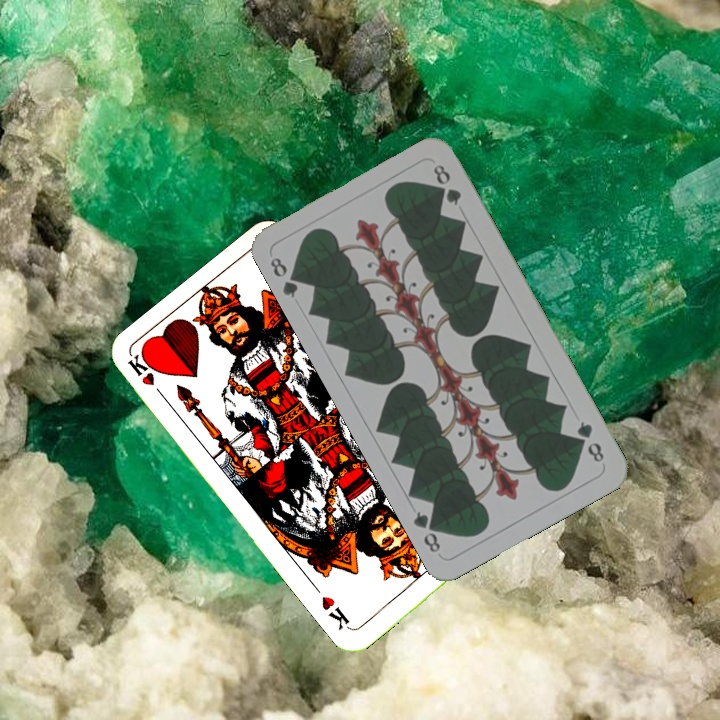G8: (266, 253, 306, 301), (572, 417, 607, 465)
HK: (124, 349, 170, 404)
